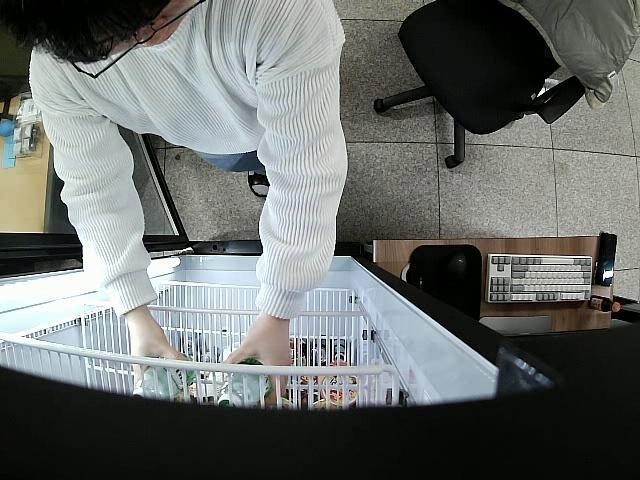18_trevi: (131, 354, 198, 400), (219, 356, 272, 406)
